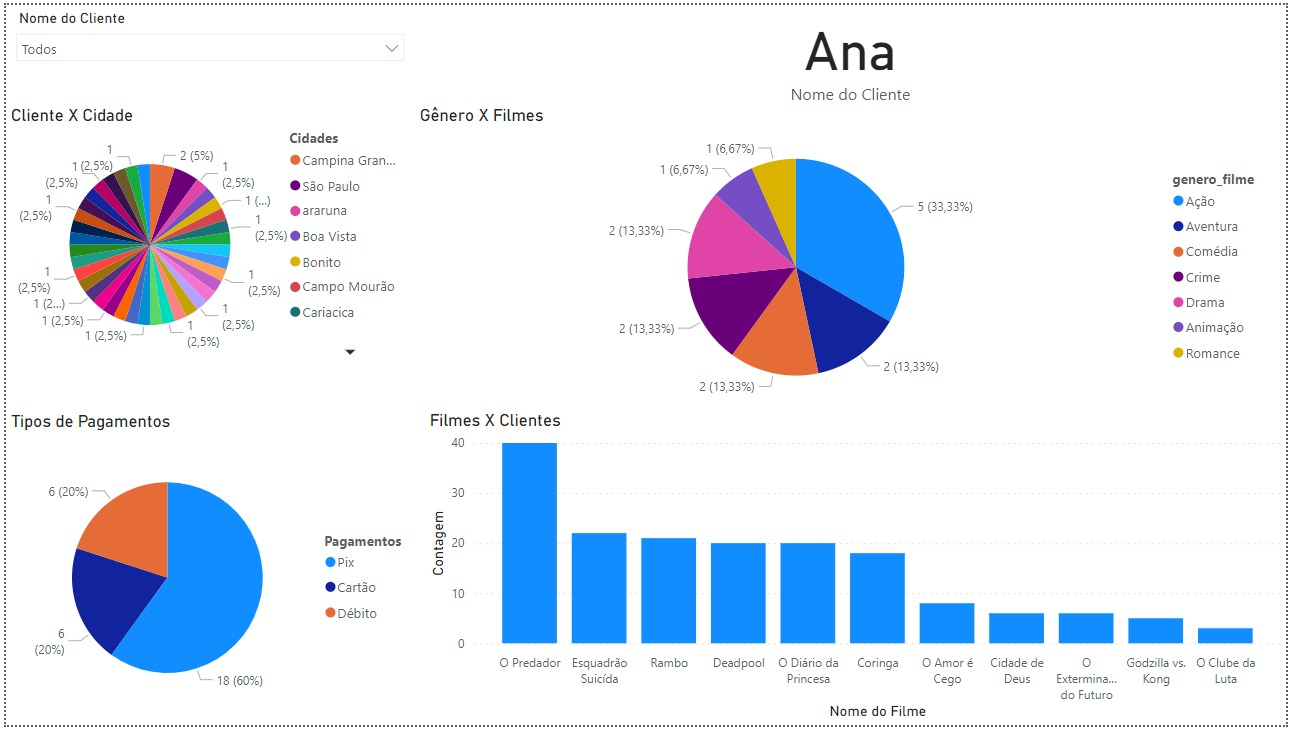

The page's visual inventory and layout, read from the dashboard file:
{"tool":"powerbi","page":{"name":"Página 1","canvas":[1280,720],"ordinal":0},"visuals":[{"type":"pieChart","title":"Tipos de Pagamentos","fields":{"Y":["DW-BI FATO_LOCACAO.PAGAMENTO_id"],"Category":["DW-BI DIMENSAO_PAGAMENTO.met_pagamento"]},"box":[0,405.8,418.2,314],"z":0},{"type":"slicer","fields":{"Values":["DW-BI DIMENSAO_CLIENTE.nm_cliente"]},"box":[0,0,408.3,100.2],"z":1000},{"type":"columnChart","title":"Filmes X Clientes","fields":{"Y":["DW-BI FATO_LOCACAO.DIMENSAO_FILME_id"],"Category":["DW-BI DIMENSAO_FILME.nome_filme"]},"box":[417.9,405.7,862.7,314.1],"z":2000},{"type":"card","fields":{"Values":["DW-BI DIMENSAO_CLIENTE.nm_cliente"]},"box":[408.3,0,871.6,100.2],"z":3000},{"type":"pieChart","title":"Gênero X Filmes","fields":{"Category":["DW-BI DIMENSAO_FILME.genero_filme"],"Y":["DW-BI DIMENSAO_FILME.nome_filme"]},"box":[408.3,100.2,861.8,305.6],"z":4000},{"type":"pieChart","title":"Cliente X Cidade","fields":{"Y":["DW-BI DIMENSAO_CLIENTE.nm_cliente"],"Category":["DW-BI DIMENSAO_CLIENTE.cidade_cliente"]},"box":[0,100.2,408.3,260.4],"z":5000}]}

Visuals, with their boxes in screenshot pixels (x1, y1, x2, y2), scaled from the page's 1280x720 canvas onto the 1291x731 screenshot:
"Tipos de Pagamentos" pieChart: x1=0 y1=412 x2=422 y2=730
slicer - DW-BI DIMENSAO_CLIENTE.nm_cliente: x1=0 y1=0 x2=412 y2=102
"Filmes X Clientes" columnChart: x1=421 y1=412 x2=1290 y2=730
card - DW-BI DIMENSAO_CLIENTE.nm_cliente: x1=412 y1=0 x2=1290 y2=102
"Gênero X Filmes" pieChart: x1=412 y1=102 x2=1281 y2=412
"Cliente X Cidade" pieChart: x1=0 y1=102 x2=412 y2=366
